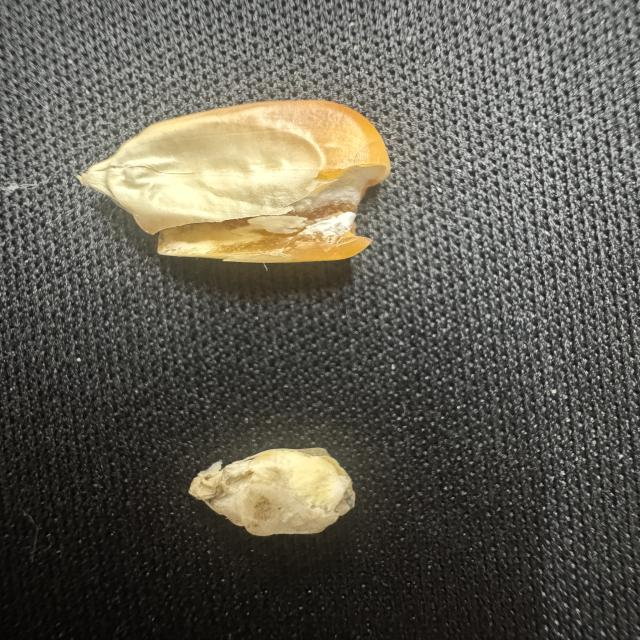Bad-Seed: (64, 92, 395, 266), (178, 442, 369, 541)
